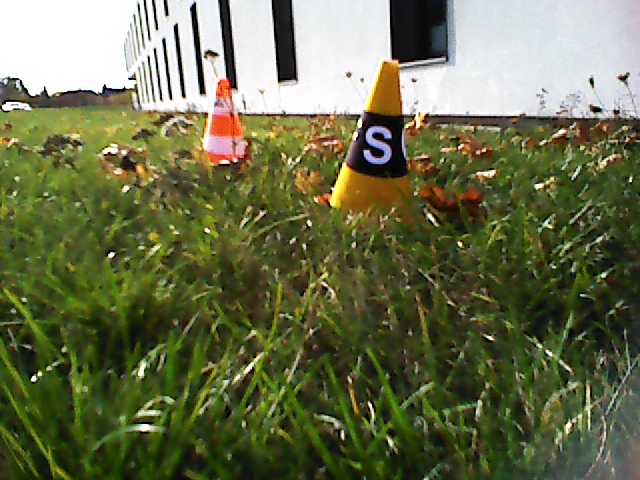orangeconesmall: (199, 77, 248, 163)
yellowcone: (329, 58, 414, 210)
